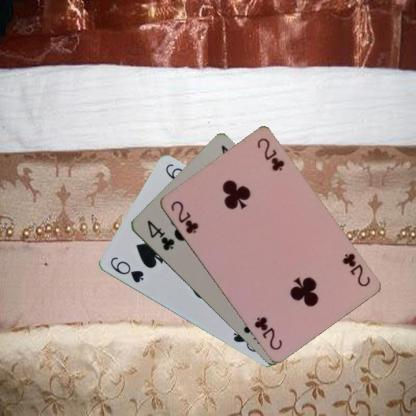2c: (339, 250, 372, 288), (167, 198, 200, 235)
4c: (144, 218, 176, 252)
6s: (107, 254, 145, 284)
